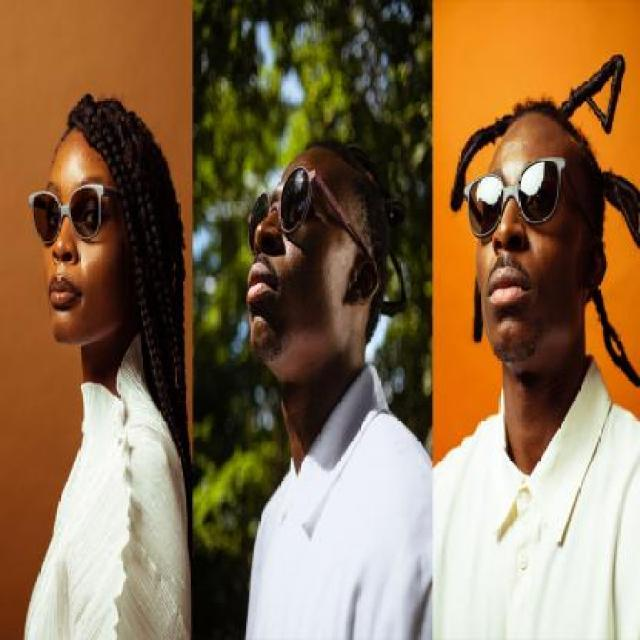glasses: (462, 154, 570, 238), (239, 164, 318, 248), (24, 179, 110, 250)
